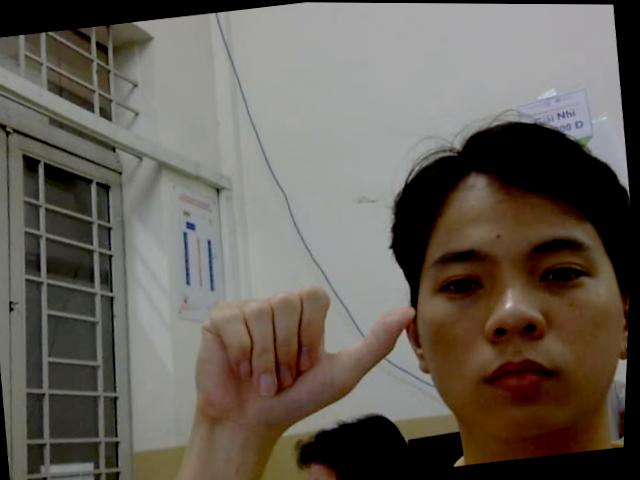A: (182, 268, 435, 431)
